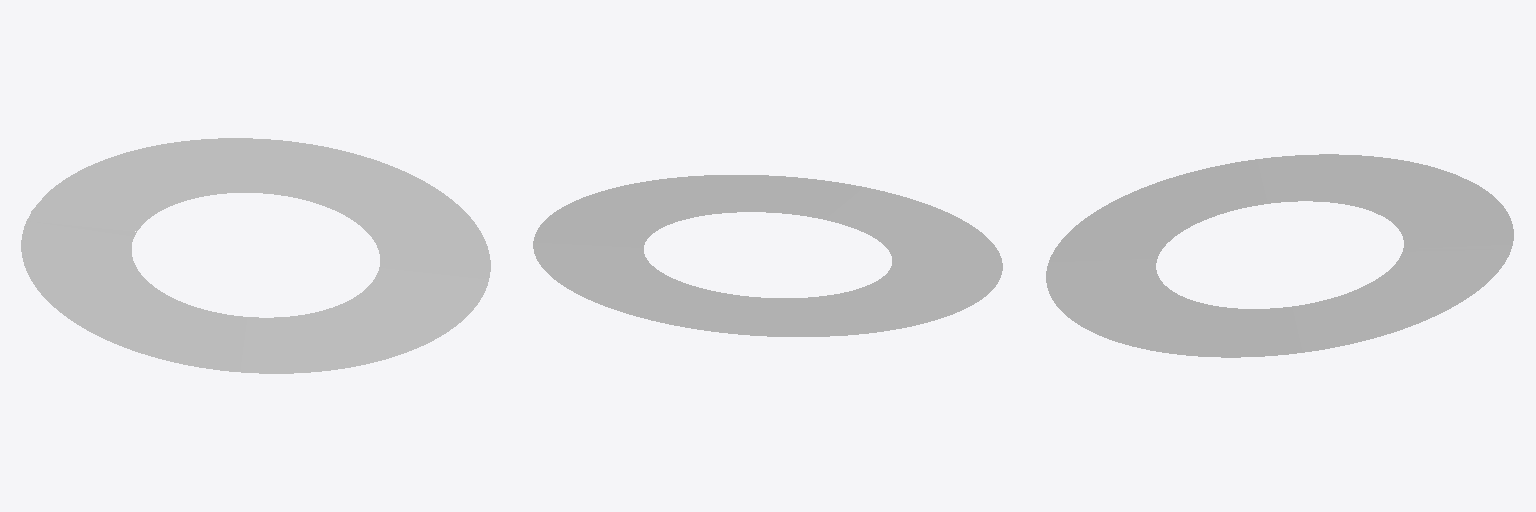
Rendered from jupRing.obj.
3 renders of one model, left to right at view 1: azimuth 30°, elevation 25°; view 2: azimuth 150°, elevation 25°; view 3: azimuth 270°, elevation 25°, orthographic.
Visible parts, largest first — view 1: Sphere.001; view 2: Sphere.001; view 3: Sphere.001.
Boxes of the visible parts, x1,y1,x2,y2 form: Sphere.001: [21, 138, 490, 373]; Sphere.001: [533, 175, 1002, 336]; Sphere.001: [1046, 154, 1513, 357].
Bounding box in the file's own units: 4.75 × 0.4737 × 4.73.